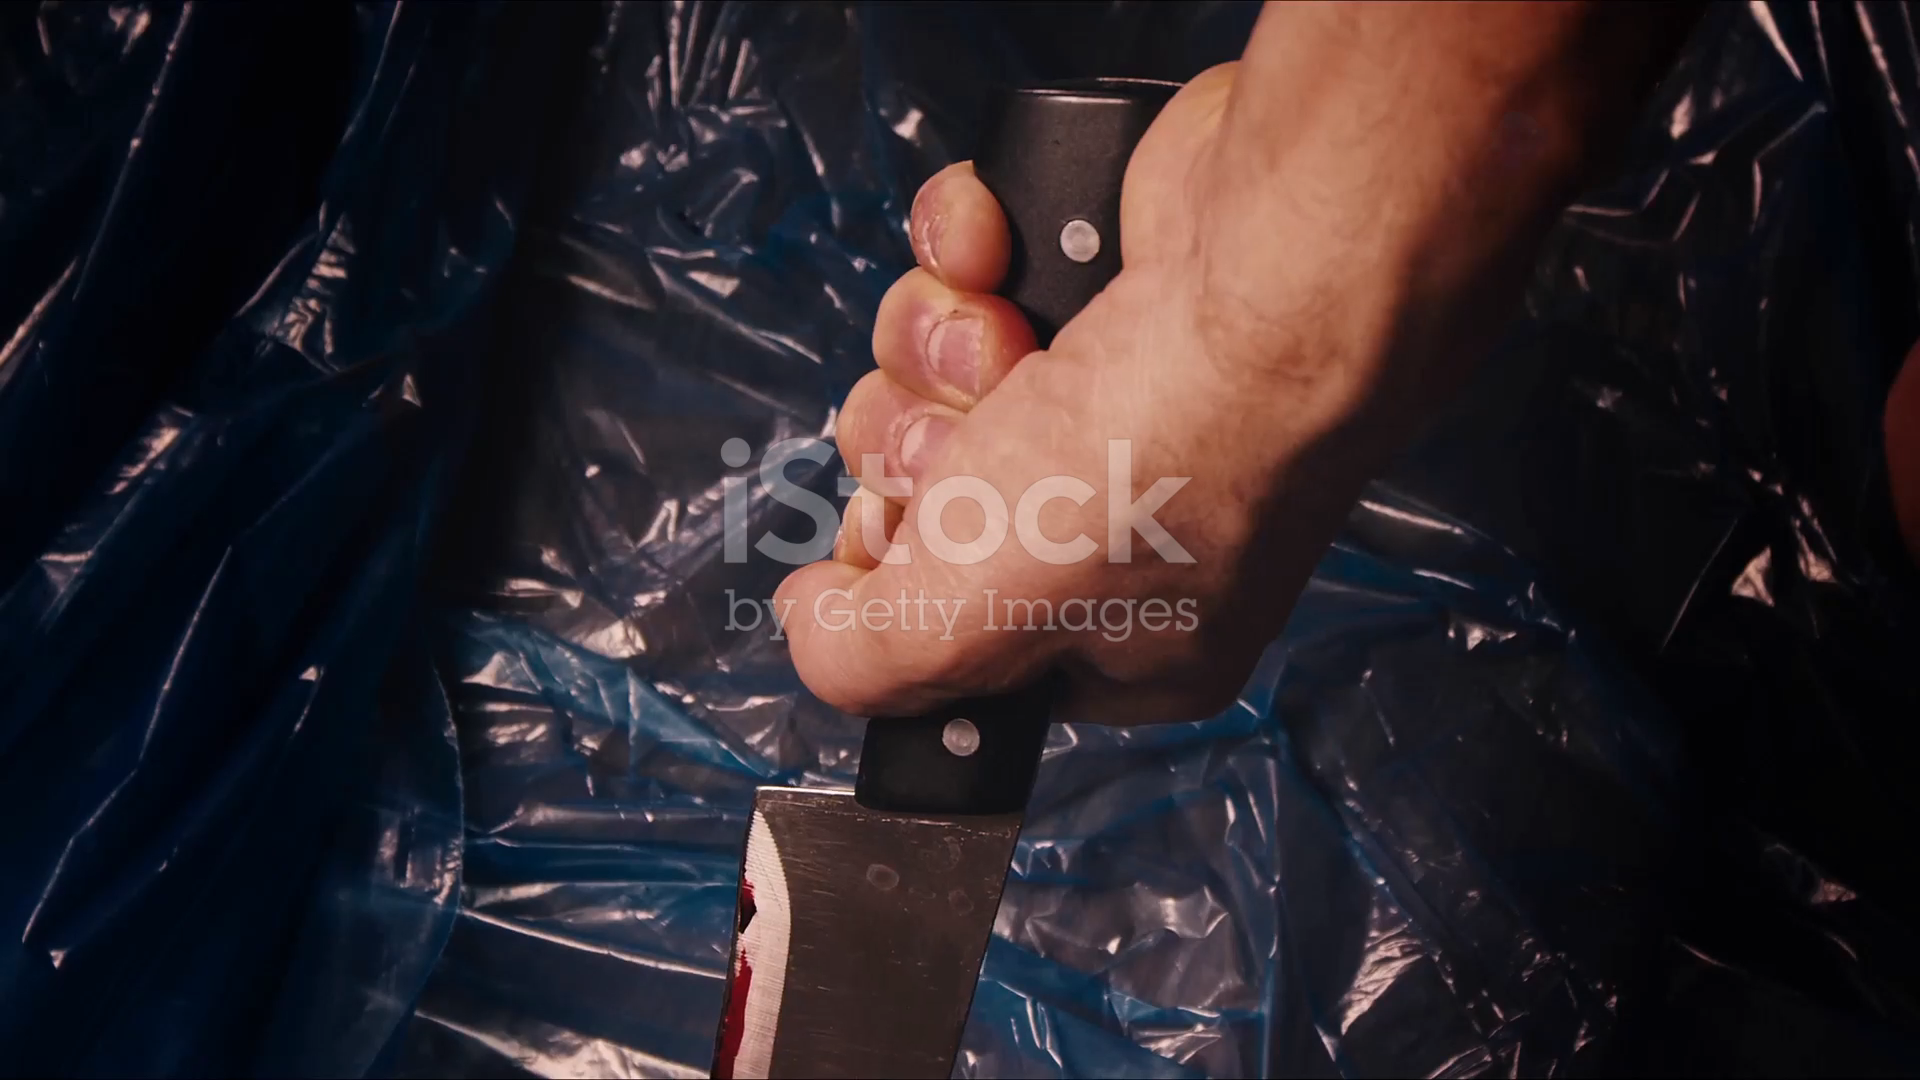cortante: (702, 785, 1027, 1080)
